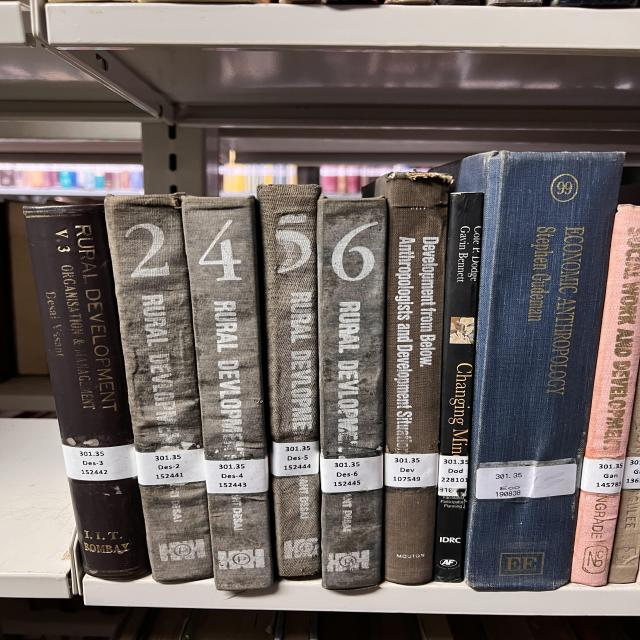Book: (458, 151, 623, 591), (23, 205, 150, 580), (105, 194, 212, 582), (182, 198, 273, 590), (375, 172, 452, 585), (318, 199, 387, 589), (572, 205, 640, 586), (257, 185, 322, 578), (433, 192, 483, 582), (608, 379, 640, 584)
Label: (475, 464, 577, 499), (62, 444, 137, 481), (135, 449, 205, 485), (320, 455, 383, 492), (205, 458, 268, 494), (385, 452, 438, 488), (270, 441, 318, 476), (580, 458, 625, 494), (438, 455, 468, 489)
